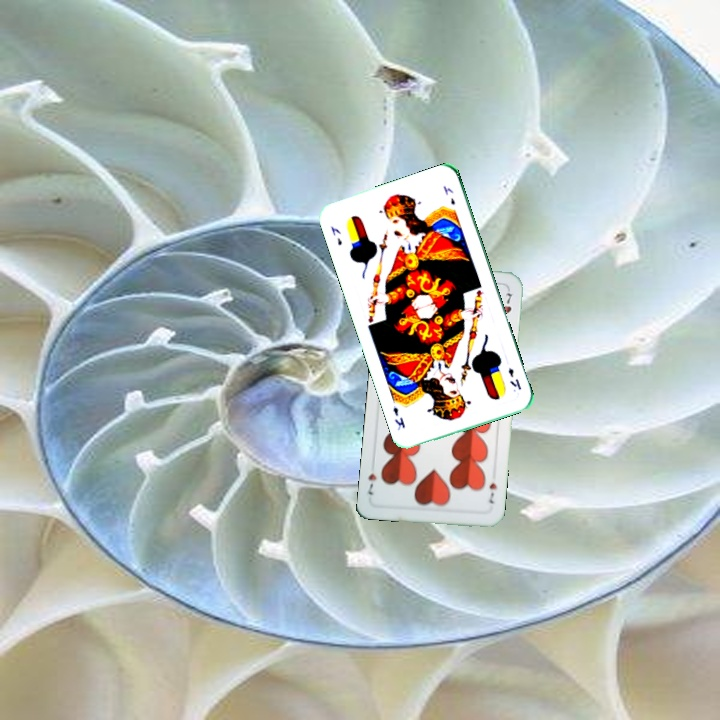EK: (504, 364, 524, 392), (327, 222, 345, 248)
H7: (484, 479, 499, 506)
